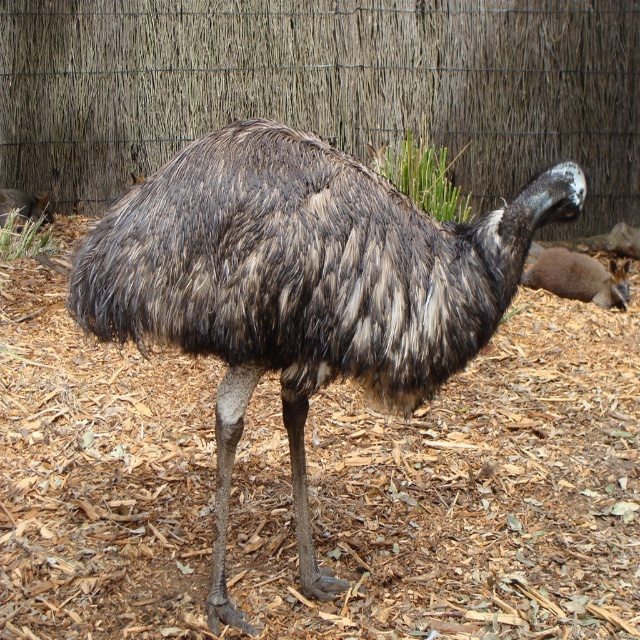Ostrich: (65, 117, 592, 640)
